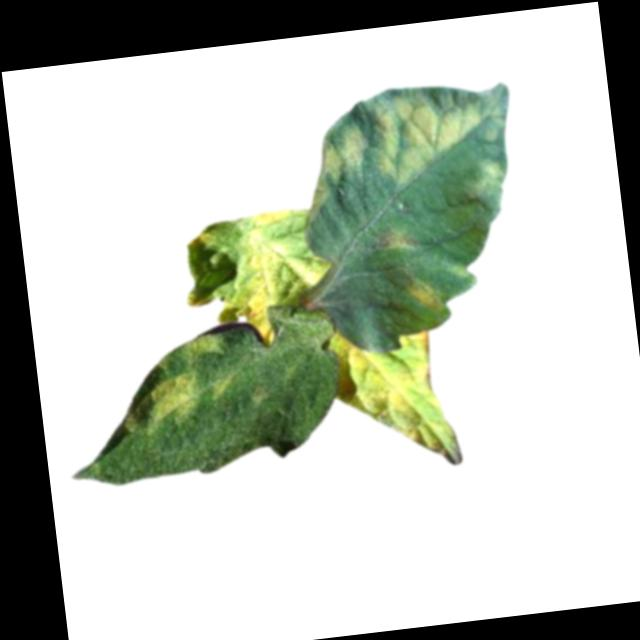Leaf_Mold: (317, 83, 509, 194), (324, 327, 461, 479), (221, 222, 340, 351), (119, 370, 203, 441), (461, 157, 507, 213), (174, 331, 227, 366), (370, 223, 417, 258), (402, 277, 442, 318), (248, 208, 291, 229)
